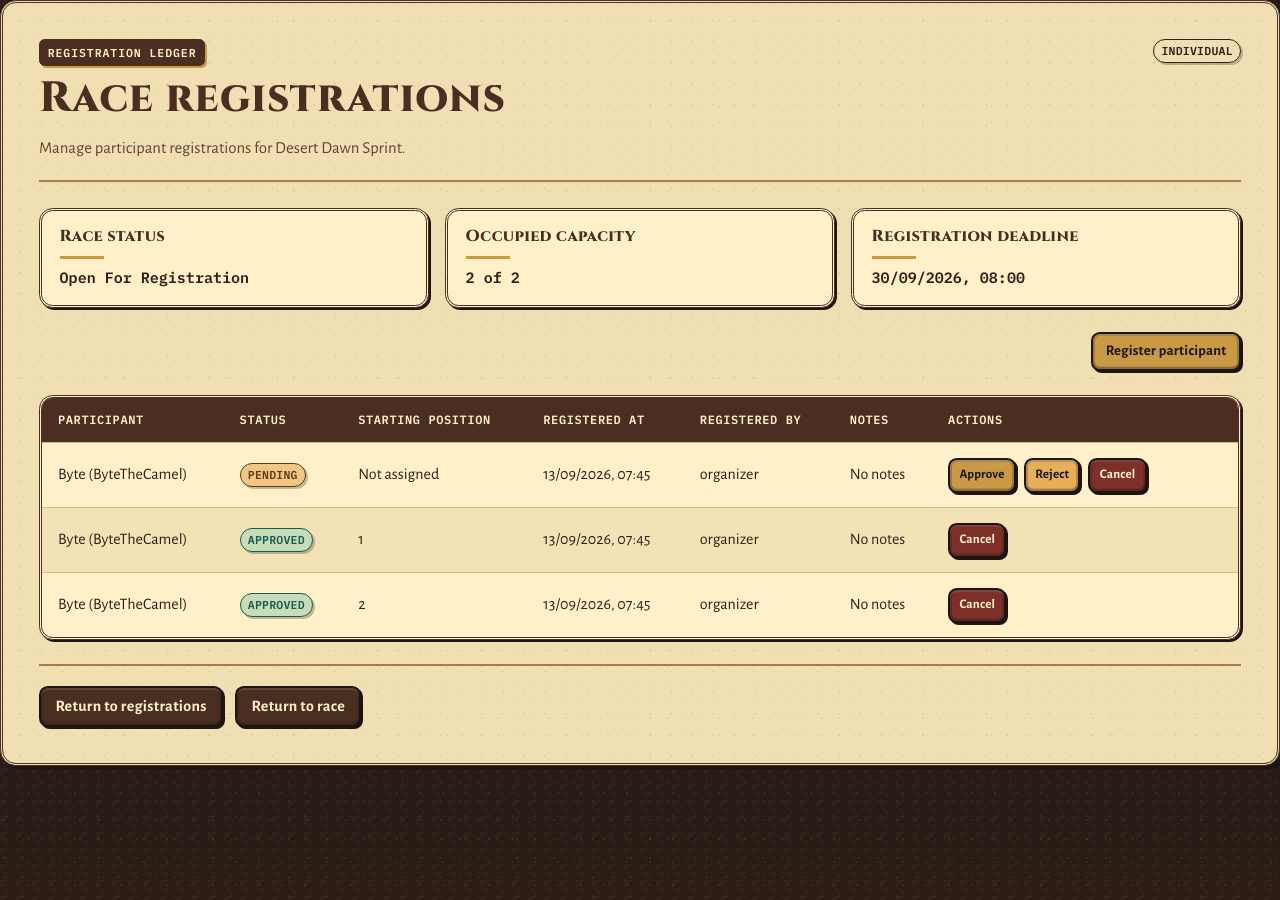
Scenario: RaceRegistrationsPage › shows an approval notice without opening a dialog when capacity is full
What coordinates should you click on to do the following:
click the button "Approve"
I would click on:
 (982, 475)
Its box is [948,458,1016,493].
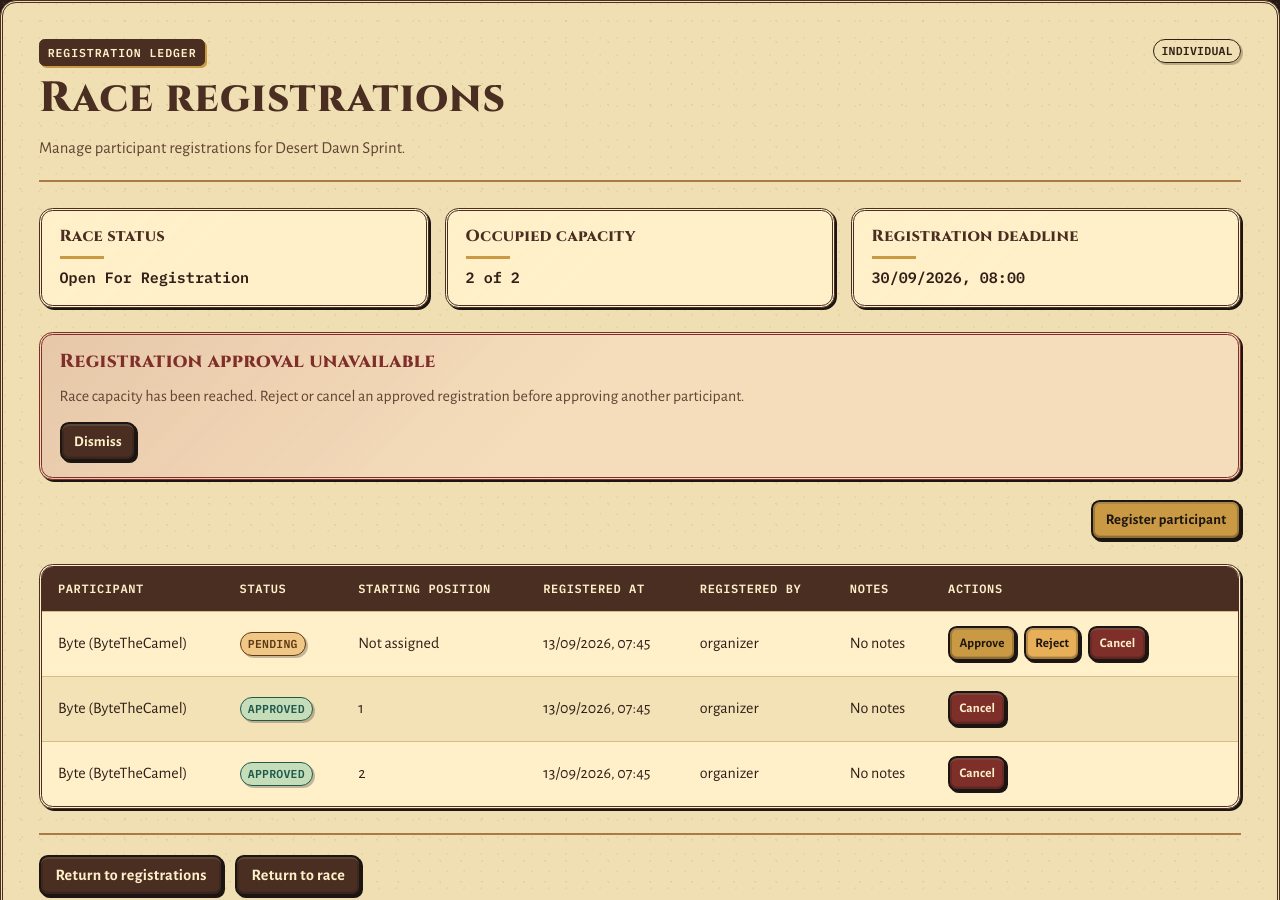
Result: the message shows "Race capacity has been reached. Reject or cancel an approved registration before approving another participant." at [60,388,744,404]
